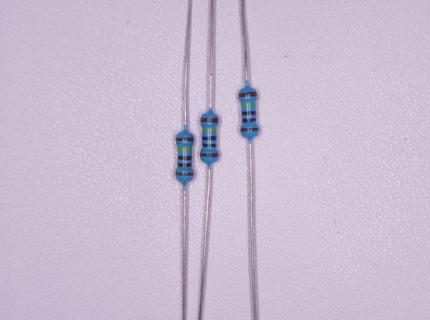Black band: (178, 155, 192, 160), (202, 136, 216, 141), (242, 111, 256, 116), (242, 118, 256, 123), (178, 163, 191, 167), (203, 143, 216, 147)
Brown band: (239, 92, 257, 98), (201, 117, 218, 123), (176, 137, 194, 142), (241, 127, 259, 132), (176, 172, 194, 176), (200, 153, 218, 157)
Yellow band: (178, 147, 191, 152), (241, 103, 256, 107), (203, 128, 216, 132)
